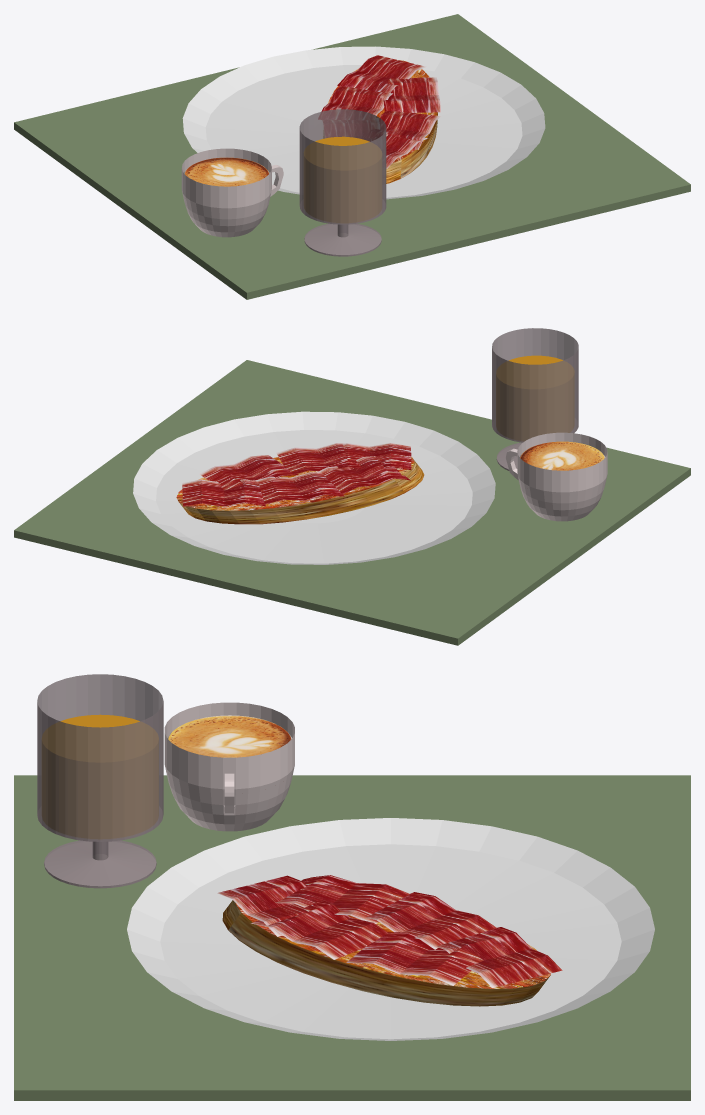
File: menu2Espana.glb
3 renders of one model, top to bottom at view 1: azimuth 30°, elevation 25°; view 2: azimuth 150°, elevation 25°; view 3: azimuth 270°, elevation 25°, orthographic. The views are drawn at different scales.
Parts seen in each view (by area): view 1: Cube, Cylinder, Cylinder.010, Cylinder.011, Circle, Cylinder.012, Plane.005, Plane.004, Plane.003, Plane.001, Cylinder.001, Plane.002 (+1 smaller); view 2: Cube, Cylinder, Cylinder.010, Cylinder.011, Circle, Cylinder.001, Cylinder.012, Plane.003, Plane.005, Plane.004, Plane.002, Plane.001 (+1 smaller); view 3: Cube, Cylinder, Cylinder.010, Cylinder.011, Circle, Cylinder.001, Cylinder.012, Plane.004, Plane.003, Plane.005, Plane.001, Plane.002 (+1 smaller).
Part boxes in pixels (box(x1,y1,x2,y2)): Cube: box(14, 14, 690, 299); Cylinder: box(182, 46, 545, 199); Cylinder.010: box(299, 109, 386, 256); Cylinder.011: box(304, 136, 381, 222); Circle: box(181, 148, 283, 237); Cylinder.012: box(184, 157, 269, 186); Plane.005: box(337, 55, 426, 93); Plane.004: box(381, 77, 440, 112); Plane.003: box(318, 86, 392, 119); Plane.001: box(367, 110, 440, 149); Cylinder.001: box(323, 60, 437, 183); Plane.002: box(323, 118, 379, 141); Cube: box(14, 360, 690, 645); Cylinder: box(133, 411, 495, 564); Cylinder.010: box(492, 328, 578, 470); Cylinder.011: box(496, 355, 573, 440); Circle: box(506, 432, 607, 521); Cylinder.001: box(176, 457, 424, 524); Cylinder.012: box(519, 441, 605, 470); Plane.003: box(255, 472, 344, 504); Plane.005: box(182, 479, 265, 506); Plane.004: box(199, 455, 298, 490); Plane.002: box(317, 456, 410, 494); Plane.001: box(276, 443, 360, 474); Cube: box(14, 775, 690, 1100); Cylinder: box(127, 818, 654, 1040); Cylinder.010: box(37, 674, 163, 888); Cylinder.011: box(42, 714, 158, 838); Circle: box(164, 702, 294, 831); Cylinder.001: box(222, 900, 550, 1006); Cylinder.012: box(167, 715, 292, 757); Plane.004: box(346, 932, 483, 985); Plane.003: box(366, 892, 496, 949); Plane.005: box(436, 927, 562, 987); Plane.001: box(251, 901, 387, 959); Plane.002: box(275, 875, 409, 923).
Bounding box in the file's own units: 22.67 × 5.85 × 20.59.
14 materials, 9 textured.
